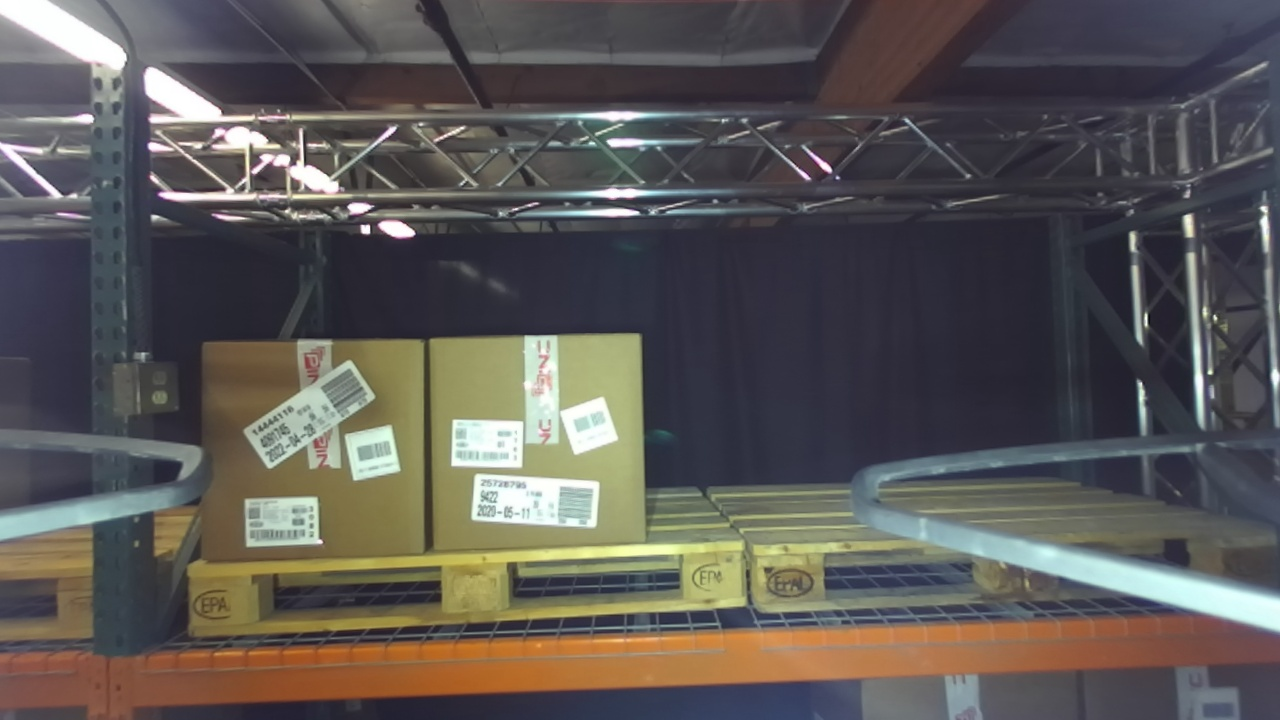box: (394, 310, 677, 584), (180, 315, 449, 586)
